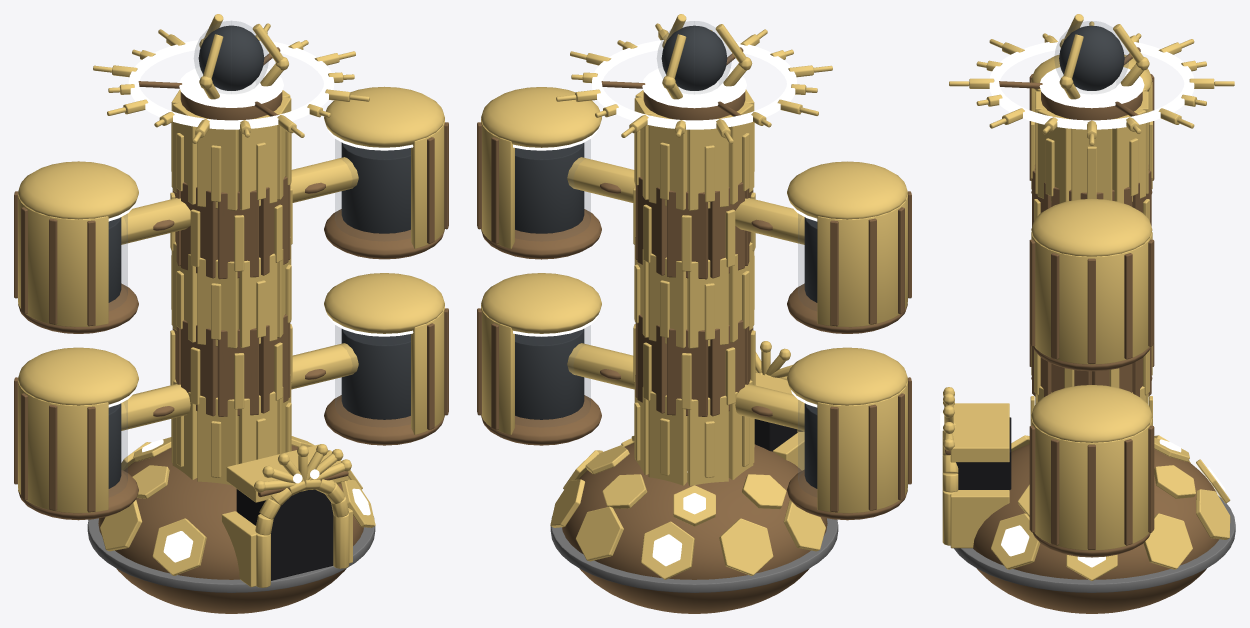
File: SOLAR_Vat_T3.glb
The picture shows the model from 3 angles, left to right: view 1: azimuth 30°, elevation 25°; view 2: azimuth 150°, elevation 25°; view 3: azimuth 270°, elevation 25°; orthographic projection.
Parts seen in each view (by area): view 1: SOLAR_Vat_T3; view 2: SOLAR_Vat_T3; view 3: SOLAR_Vat_T3.
Part boxes in pixels (x1,y1,x2,y2): SOLAR_Vat_T3: (14, 14, 448, 613); SOLAR_Vat_T3: (477, 14, 911, 613); SOLAR_Vat_T3: (940, 14, 1235, 613).
Size of the model in its own units: 5.87 by 7.66 by 3.6.
